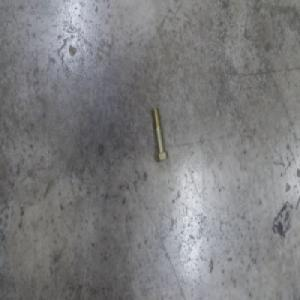Bolt: (150, 107, 168, 164)
